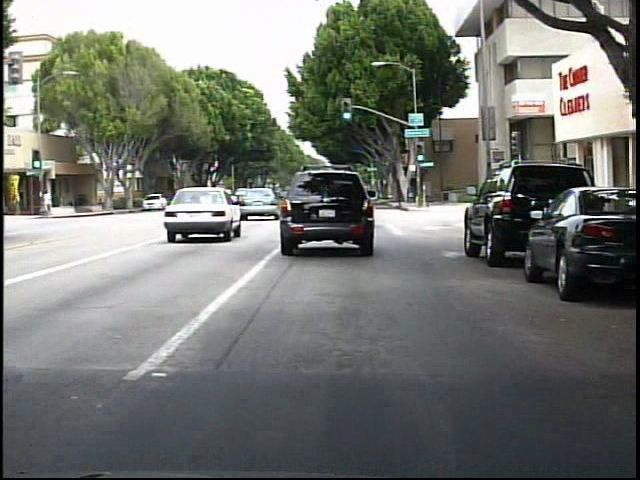person: (46, 187, 57, 217)
